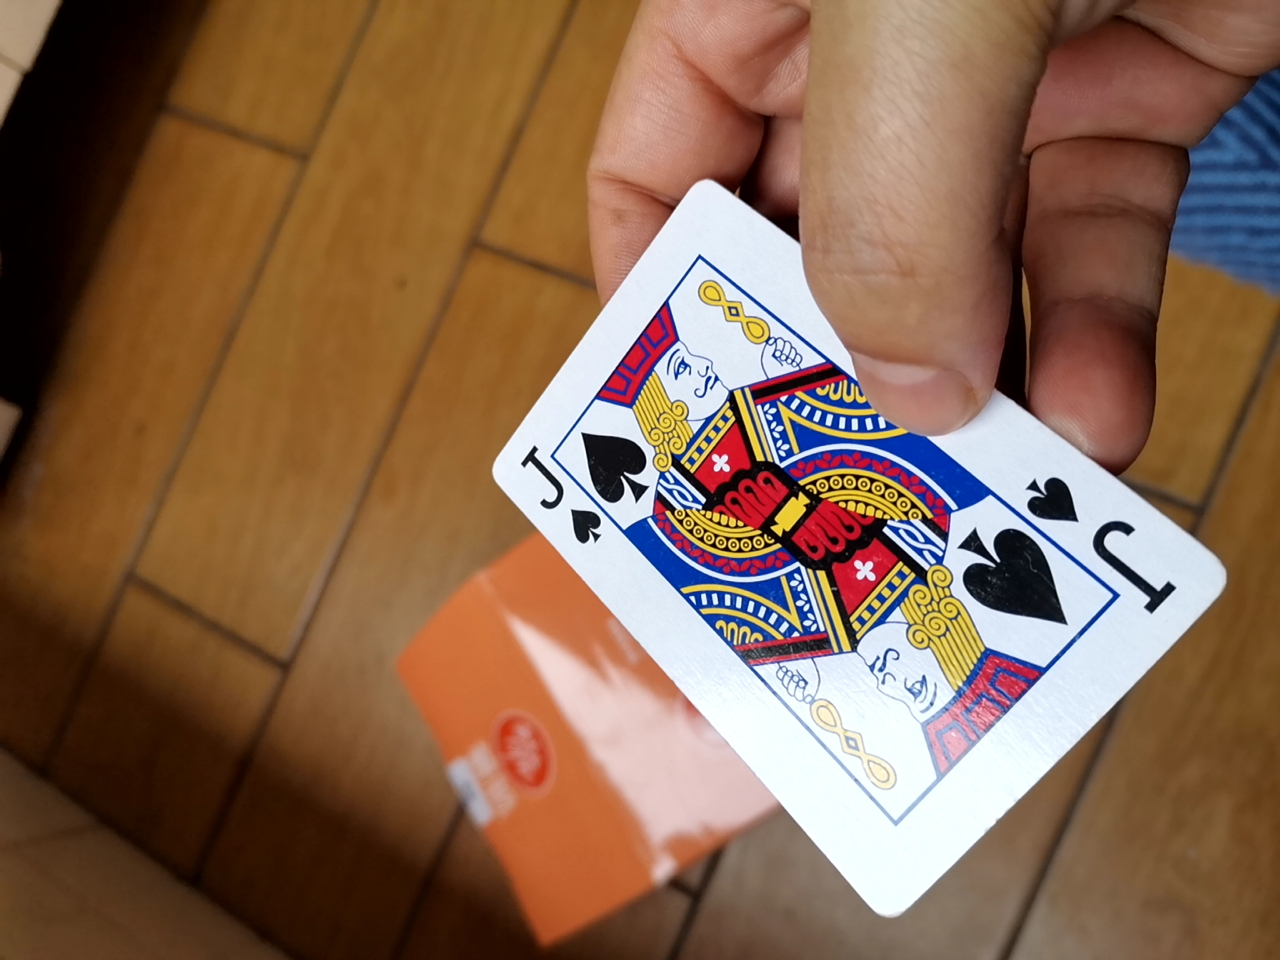ht j: (462, 165, 1200, 884)
